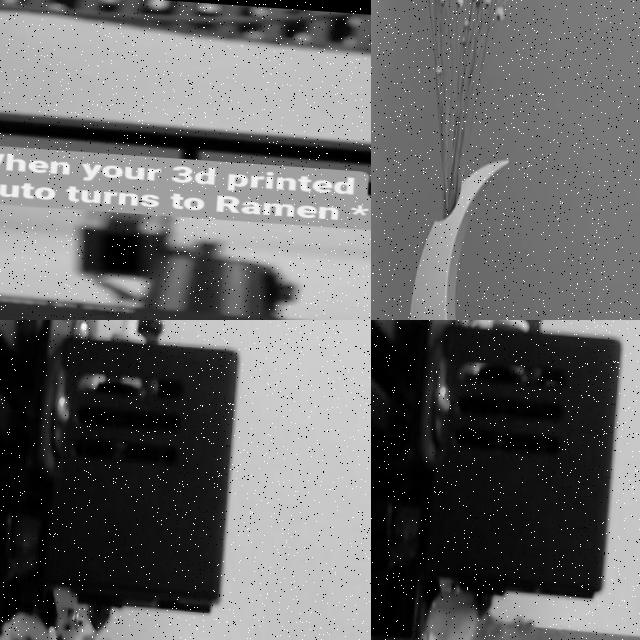spaghetti: (420, 591, 534, 640)
